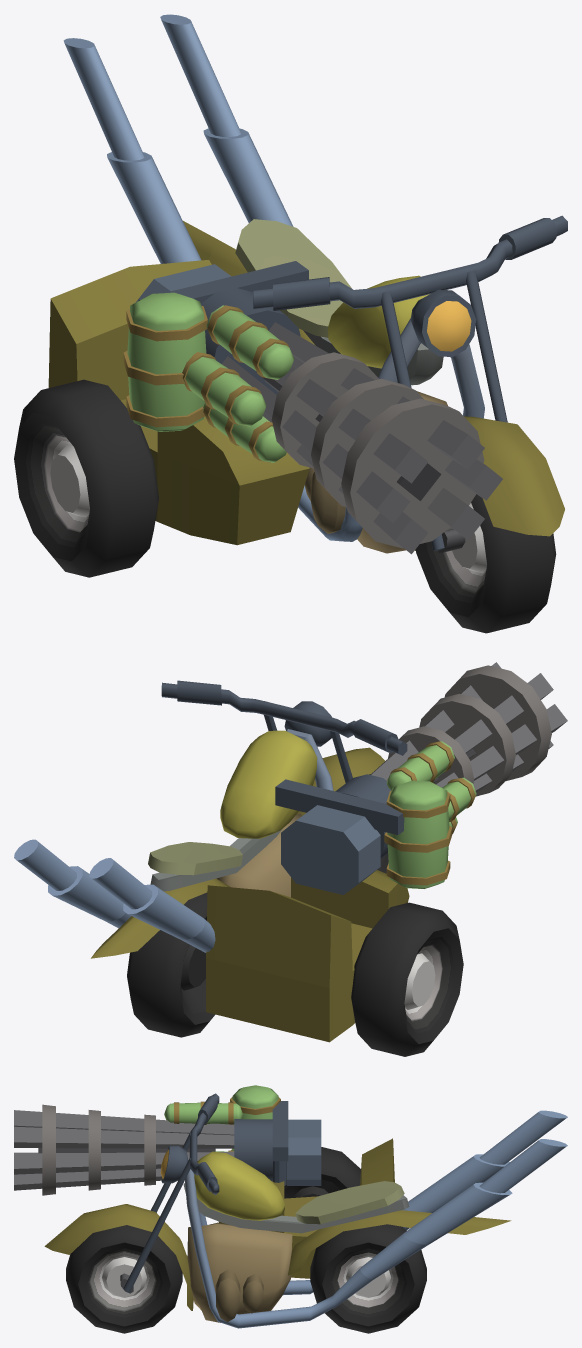
File: Pison_Radiation_Motor.fbx
3 views of the same model, one above another, from view 1: azimuth 30°, elevation 25°; view 2: azimuth 150°, elevation 25°; view 3: azimuth 270°, elevation 25° (orthographic). The views are drawn at different scales.
Parts seen in each view (by area): view 1: Body, pCylinder23, pCylinder13, polySurface76; view 2: Body, pCylinder23, pCylinder13, polySurface75; view 3: Body, pCylinder23, polySurface76, polySurface75, pCylinder13.
Boxes of the visible parts, x1,y1,x2,y2 form: Body: [48, 14, 567, 553]; pCylinder23: [123, 261, 502, 554]; pCylinder13: [14, 379, 158, 577]; polySurface76: [415, 494, 556, 633]; Body: [14, 680, 409, 1042]; pCylinder23: [275, 662, 567, 894]; pCylinder13: [351, 902, 463, 1056]; polySurface75: [127, 892, 215, 1037]; Body: [44, 1093, 567, 1328]; pCylinder23: [14, 1085, 321, 1195]; polySurface76: [66, 1225, 182, 1333]; polySurface75: [310, 1224, 426, 1333]; pCylinder13: [284, 1147, 360, 1198].
Bounding box in the file's own units: 6.12 × 4.53 × 11.28.
